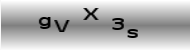3: (110, 16, 125, 30)
V: (52, 18, 70, 33)
X: (81, 6, 98, 21)
g: (37, 15, 51, 29)
s: (126, 28, 139, 39)
